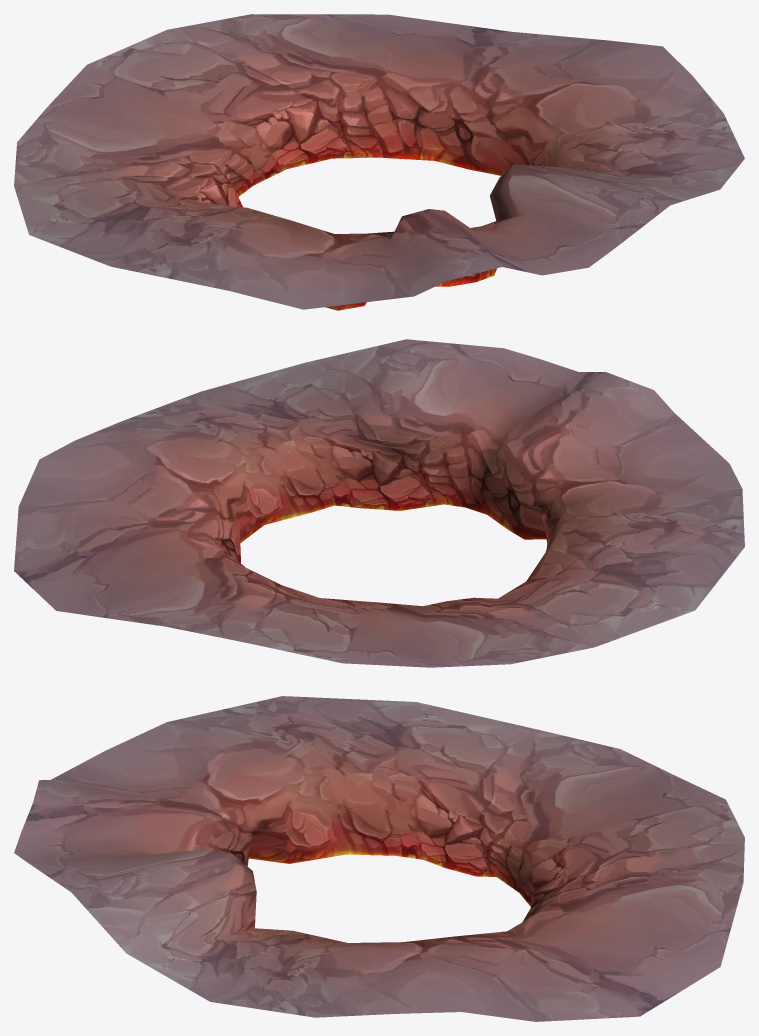
Rendered from qiangti.FBX.
3 renders of one model, top to bottom at view 1: azimuth 30°, elevation 25°; view 2: azimuth 150°, elevation 25°; view 3: azimuth 270°, elevation 25°, orthographic. The views are drawn at different scales.
Visible parts, largest first — view 1: qiangti; view 2: qiangti; view 3: qiangti.
Boxes of the visible parts, <box> form: qiangti: <box>14,14,744,310</box>; qiangti: <box>14,339,744,667</box>; qiangti: <box>14,696,744,1021</box>.
Bounding box in the file's own units: 3627 × 519 × 3475.
